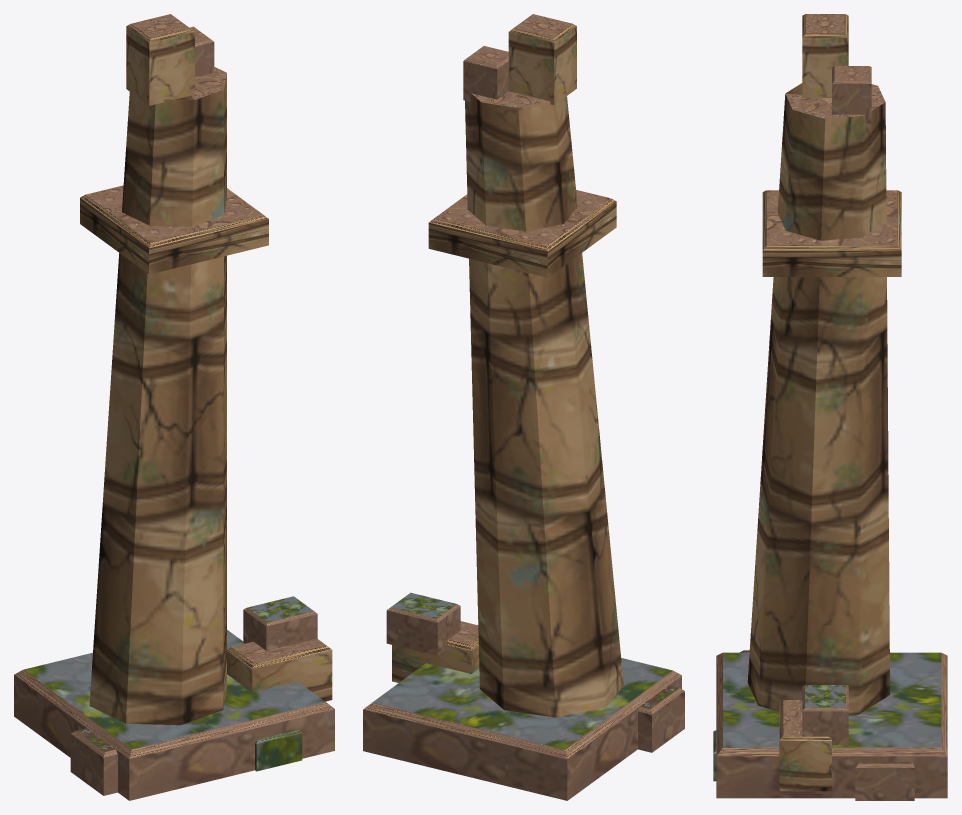
Rendered from ruin_pillar.obj.
The picture shows the model from 3 angles, left to right: view 1: azimuth 30°, elevation 25°; view 2: azimuth 150°, elevation 25°; view 3: azimuth 270°, elevation 25°; orthographic projection.
Parts seen in each view (by area): view 1: RuinPillar; view 2: RuinPillar; view 3: RuinPillar.
Part boxes in pixels (x1,y1,x2,y2): RuinPillar: (14, 14, 334, 800); RuinPillar: (363, 14, 684, 800); RuinPillar: (713, 14, 947, 800).
Bounding box in the file's own units: 0.87 × 2.39 × 0.71.
Materials: 1 (1 with a texture image).
